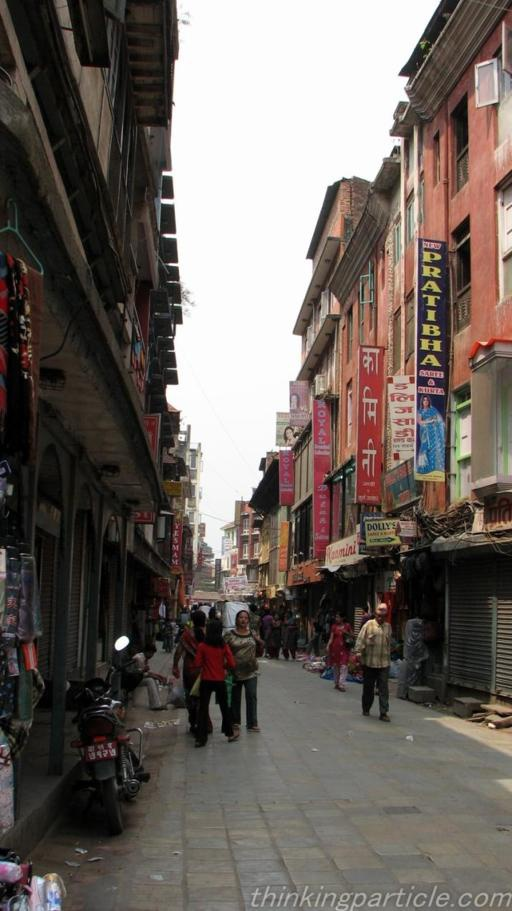non-vehicle: (64, 631, 154, 838), (159, 619, 175, 653)
